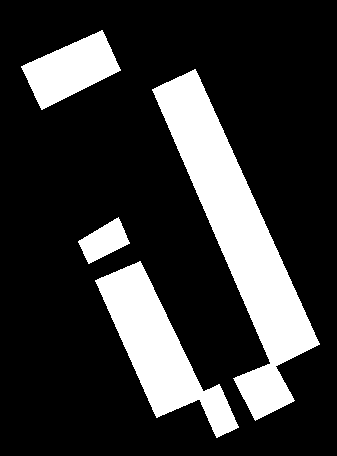parkingspot: (152, 69, 319, 367), (95, 261, 205, 417), (21, 30, 120, 109), (233, 362, 294, 420), (78, 217, 129, 263), (197, 384, 238, 437)
